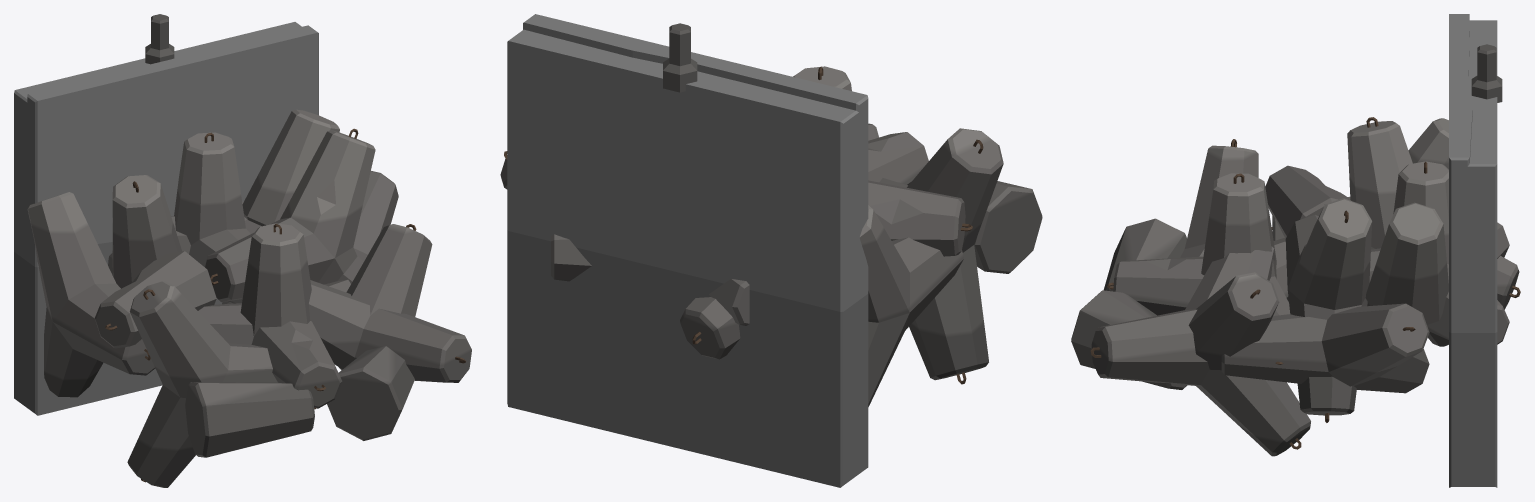
Rendered from SM_Envr_Seawall_02.fbx.
The picture shows the model from 3 angles, left to right: view 1: azimuth 30°, elevation 25°; view 2: azimuth 150°, elevation 25°; view 3: azimuth 270°, elevation 25°; orthographic projection. The views are drawn at different scales.
Visible parts, largest first — view 1: SM_Envr_Seawall_02; view 2: SM_Envr_Seawall_02; view 3: SM_Envr_Seawall_02.
Part boxes in pixels (box(x1,y1,x2,y2)): SM_Envr_Seawall_02: box(14, 14, 471, 487); SM_Envr_Seawall_02: box(500, 14, 1042, 487); SM_Envr_Seawall_02: box(1071, 14, 1520, 487).
Size of the model in its own units: 604 by 596 by 654.
